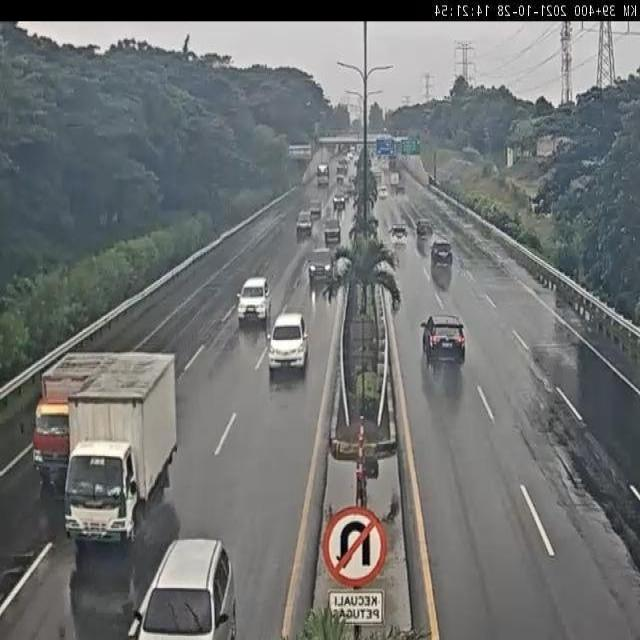Bus: (316, 161, 330, 185)
Car: (130, 540, 240, 640), (266, 314, 309, 376), (417, 314, 467, 366), (236, 278, 273, 329), (305, 248, 337, 288), (428, 239, 454, 266), (390, 219, 410, 249), (324, 218, 340, 245), (297, 211, 313, 233), (416, 220, 433, 240), (332, 191, 348, 209)
Truck: (63, 349, 182, 554), (30, 351, 120, 490)
